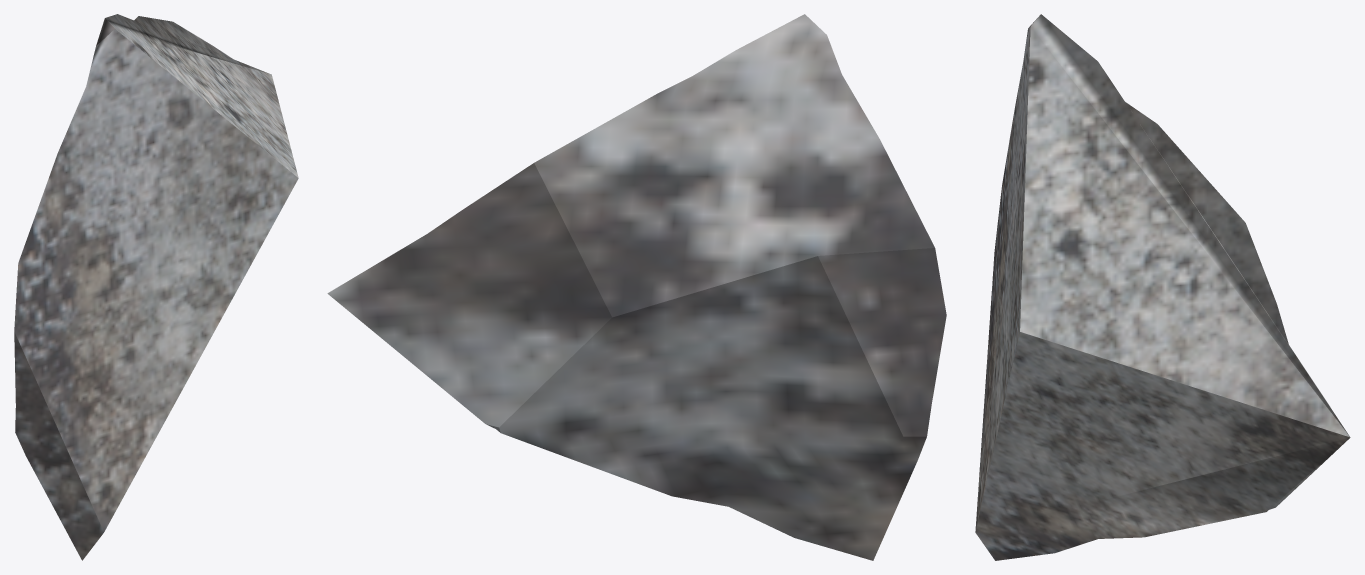
Rendered from Asteroid_Large_001_02_003_03_020.fbx.
3 views of the same model, side by side, from view 1: azimuth 30°, elevation 25°; view 2: azimuth 150°, elevation 25°; view 3: azimuth 270°, elevation 25° (orthographic). The views are drawn at different scales.
Visible parts, largest first — view 1: Asteroid_Large_001_02_003_03_020; view 2: Asteroid_Large_001_02_003_03_020; view 3: Asteroid_Large_001_02_003_03_020.
Part boxes in pixels (x1,y1,x2,y2): Asteroid_Large_001_02_003_03_020: (14,14,298,560); Asteroid_Large_001_02_003_03_020: (327,14,946,560); Asteroid_Large_001_02_003_03_020: (975,14,1350,560).
Bounding box in the file's own units: 6.6 × 7.79 × 4.64.
